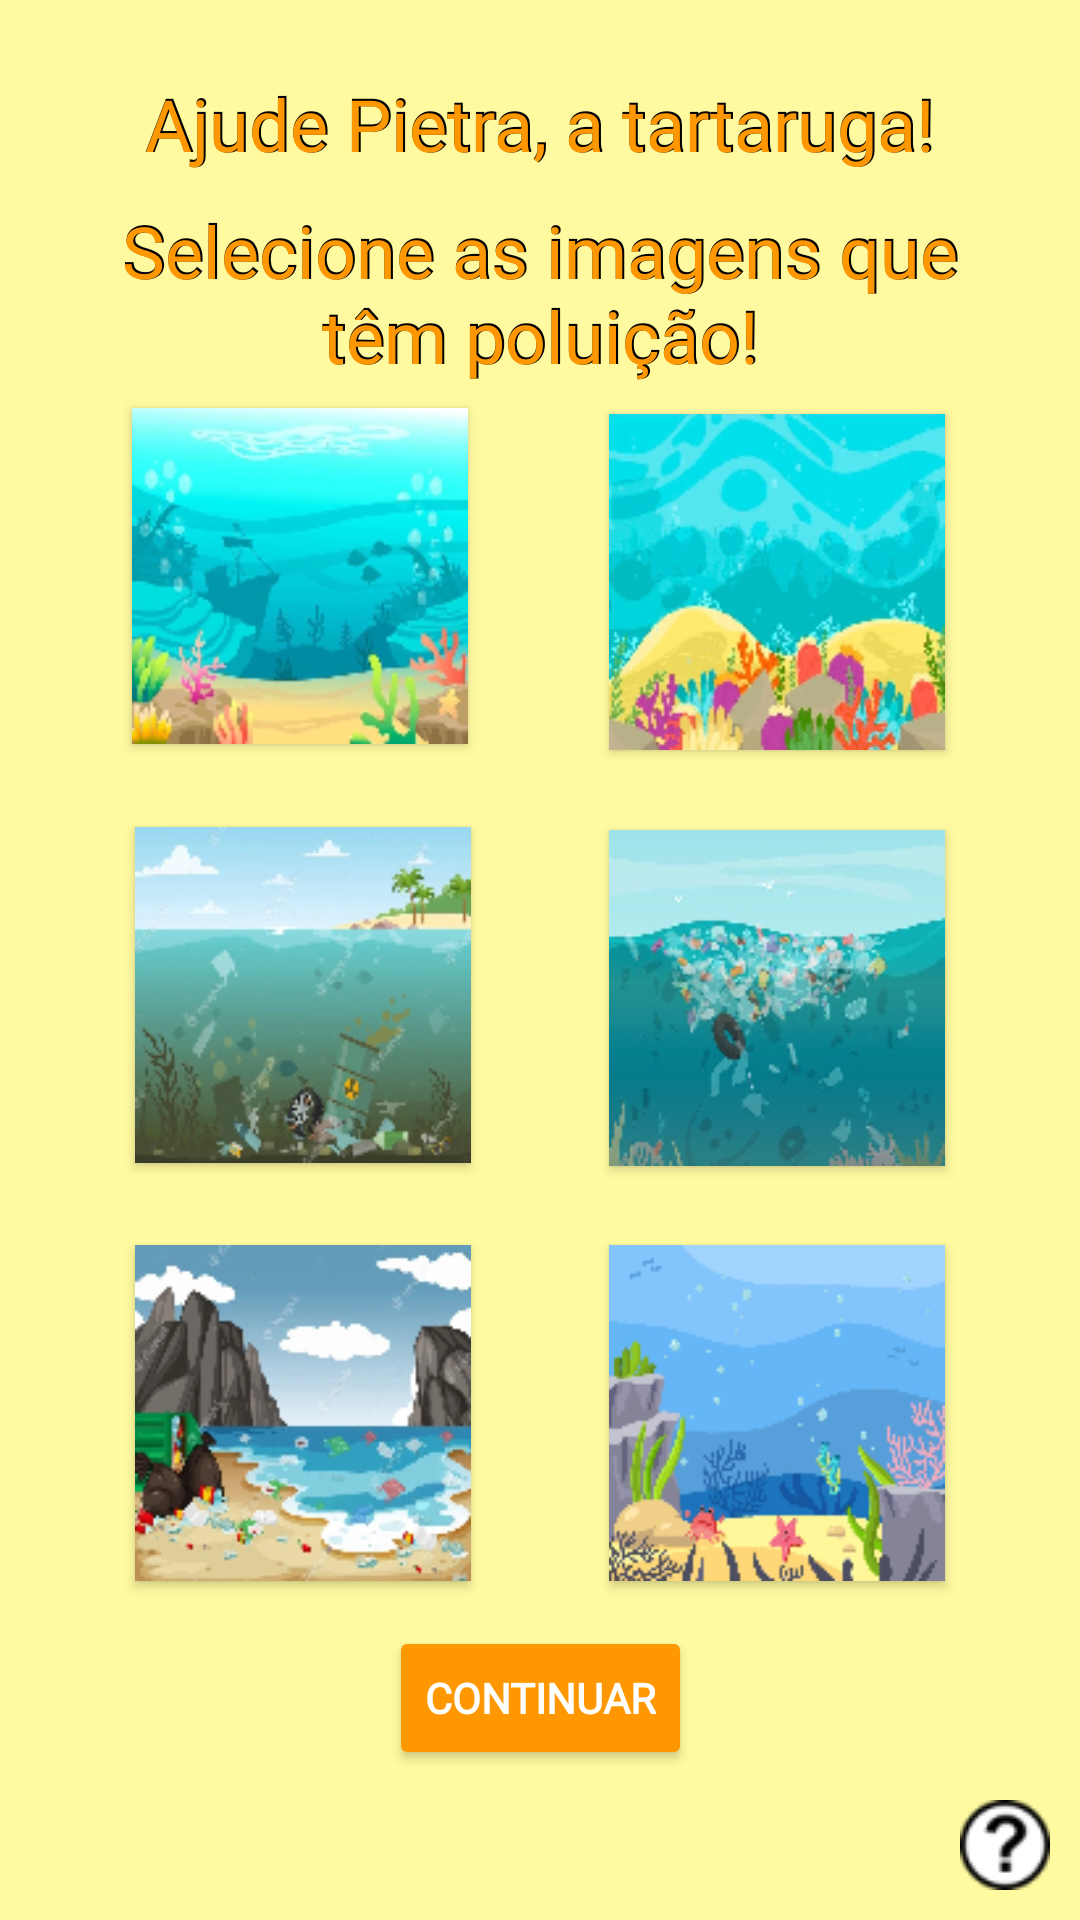

Point at icon controls on the screen. Image size 1080px×1920px, points as [x,y].
captcha seletor: [300,576], [777,582], [303,995], [777,998], [303,1413], [777,1413]
tutorial: [1005,1845]
